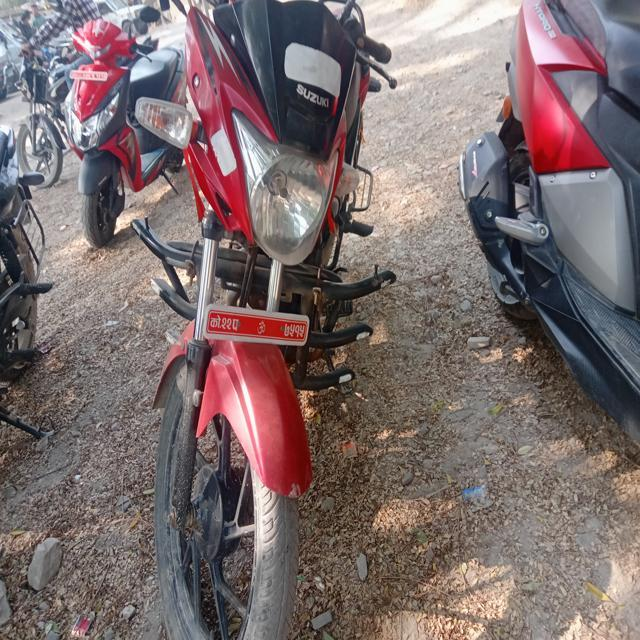license_plate: (193, 285, 342, 359)
